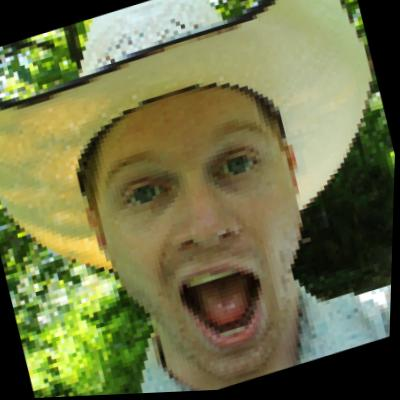surprise: (70, 70, 341, 397)
